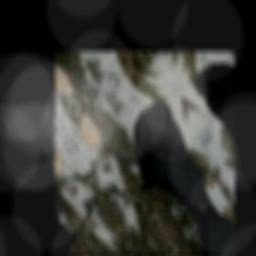Crow: (84, 94, 222, 248)
